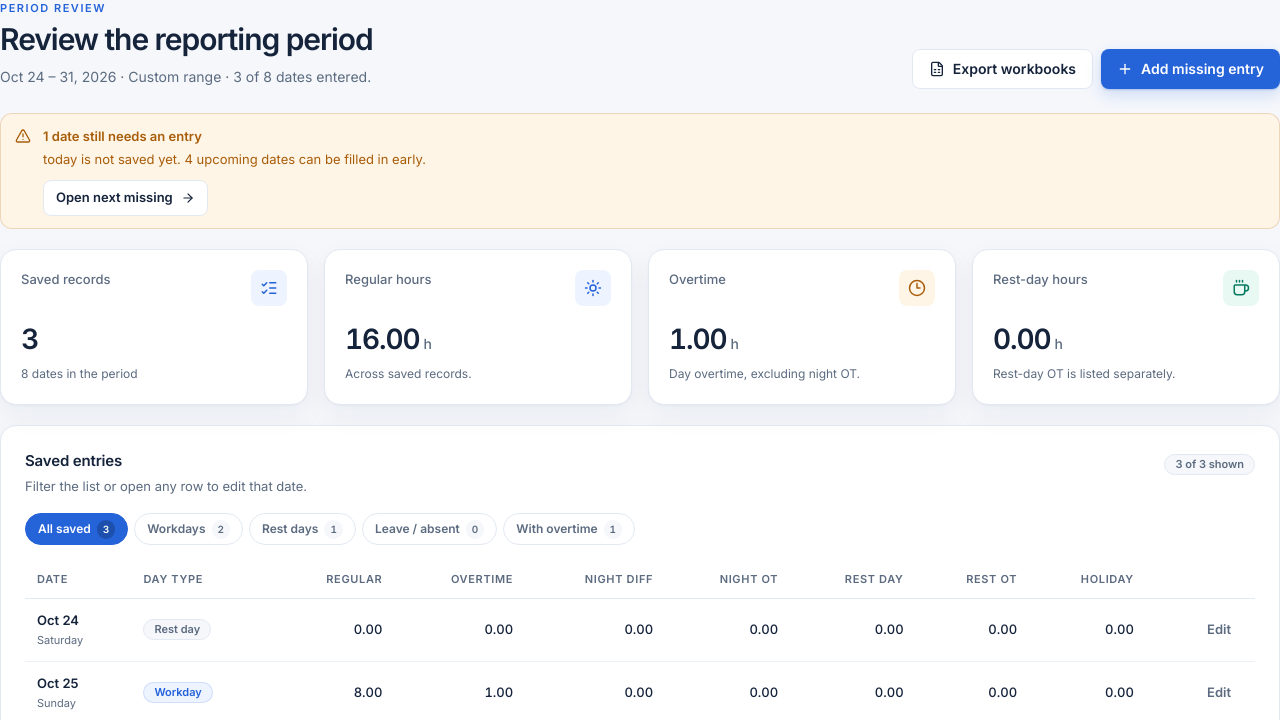
ReviewView › filters saved entries without changing the underlying data
Click the button "Rest days 1".
click(302, 529)  # box [249,513,356,545]
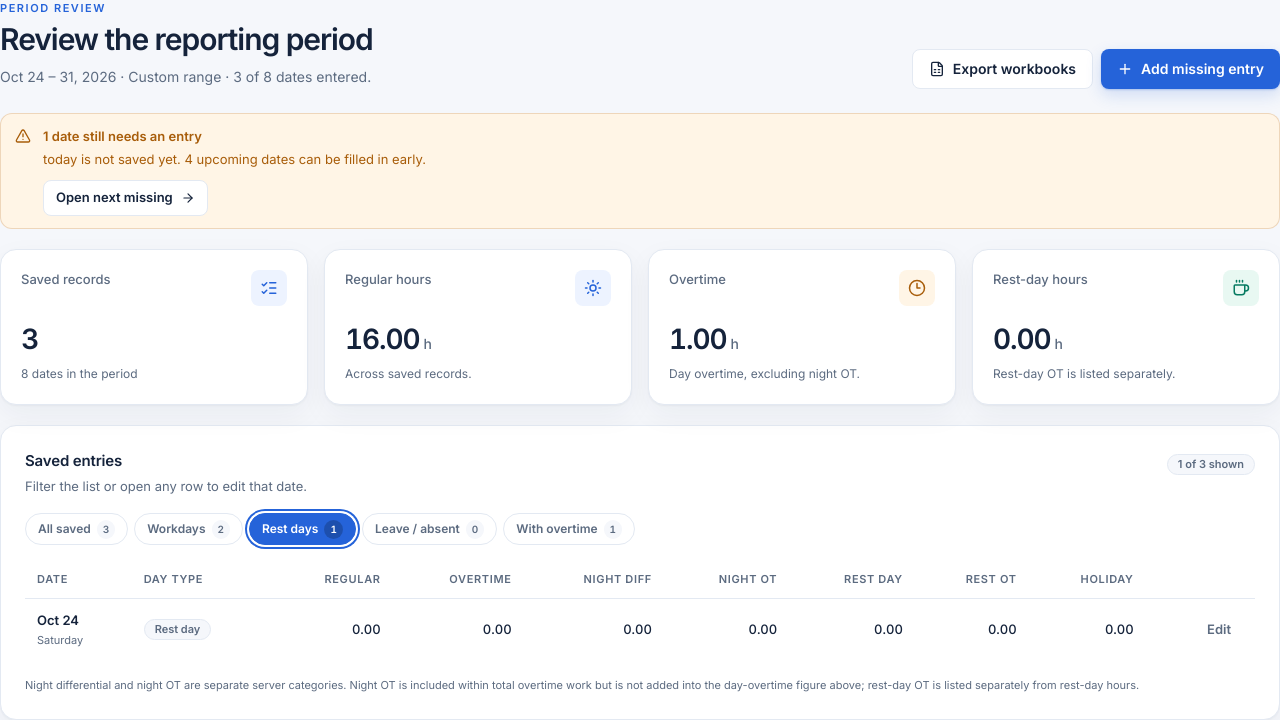
Expected: the text "1 of 3 shown" is shown, [1167,454,1255,474]
Click the button "With overtime 1".
click(569, 529)  # box [503,513,635,545]
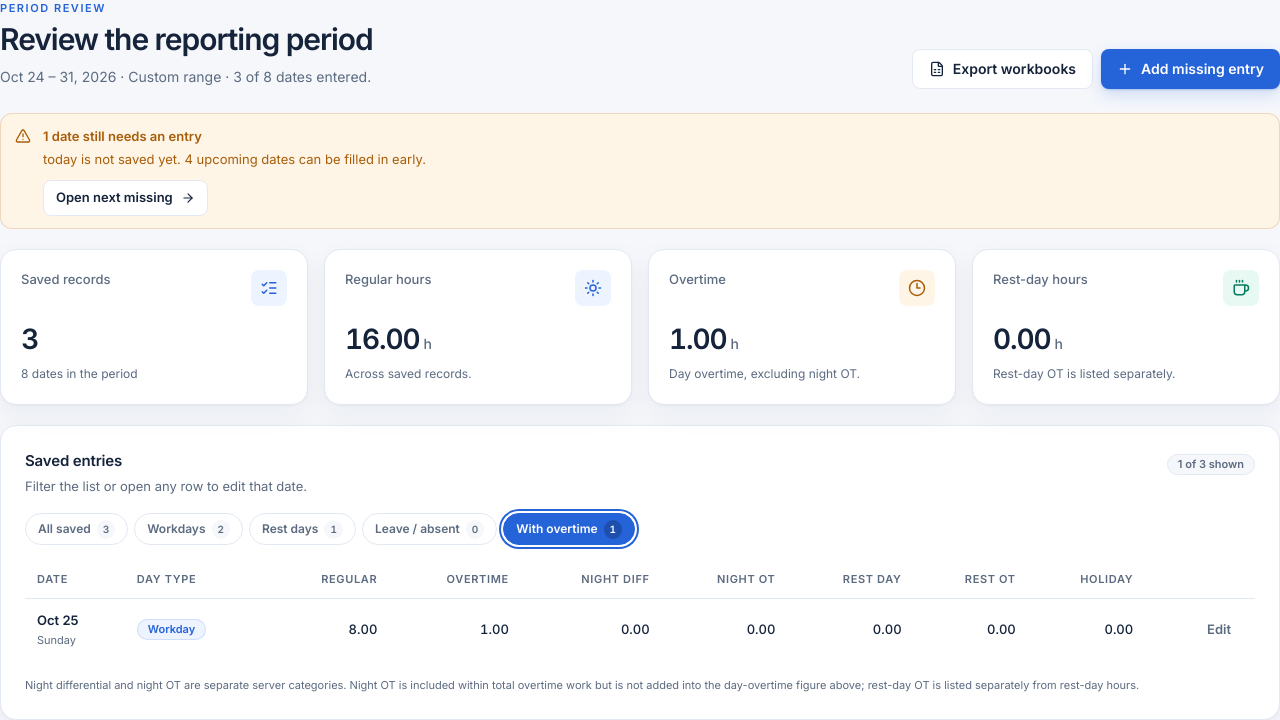
Expected: the text "1 of 3 shown" is shown, [1167,454,1255,474]
Click the button "All saved 3".
click(77, 529)  # box [25,513,128,545]
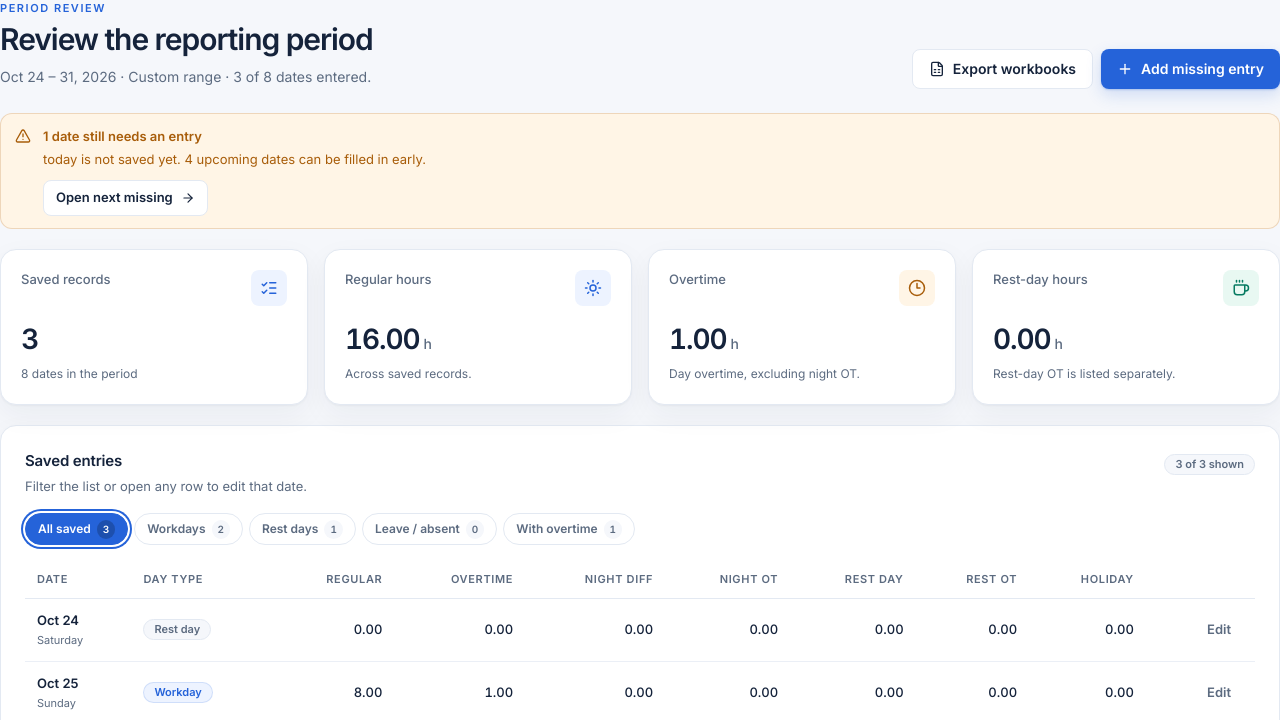
Expected: the text "3 of 3 shown" is shown, [1164,454,1255,474]
